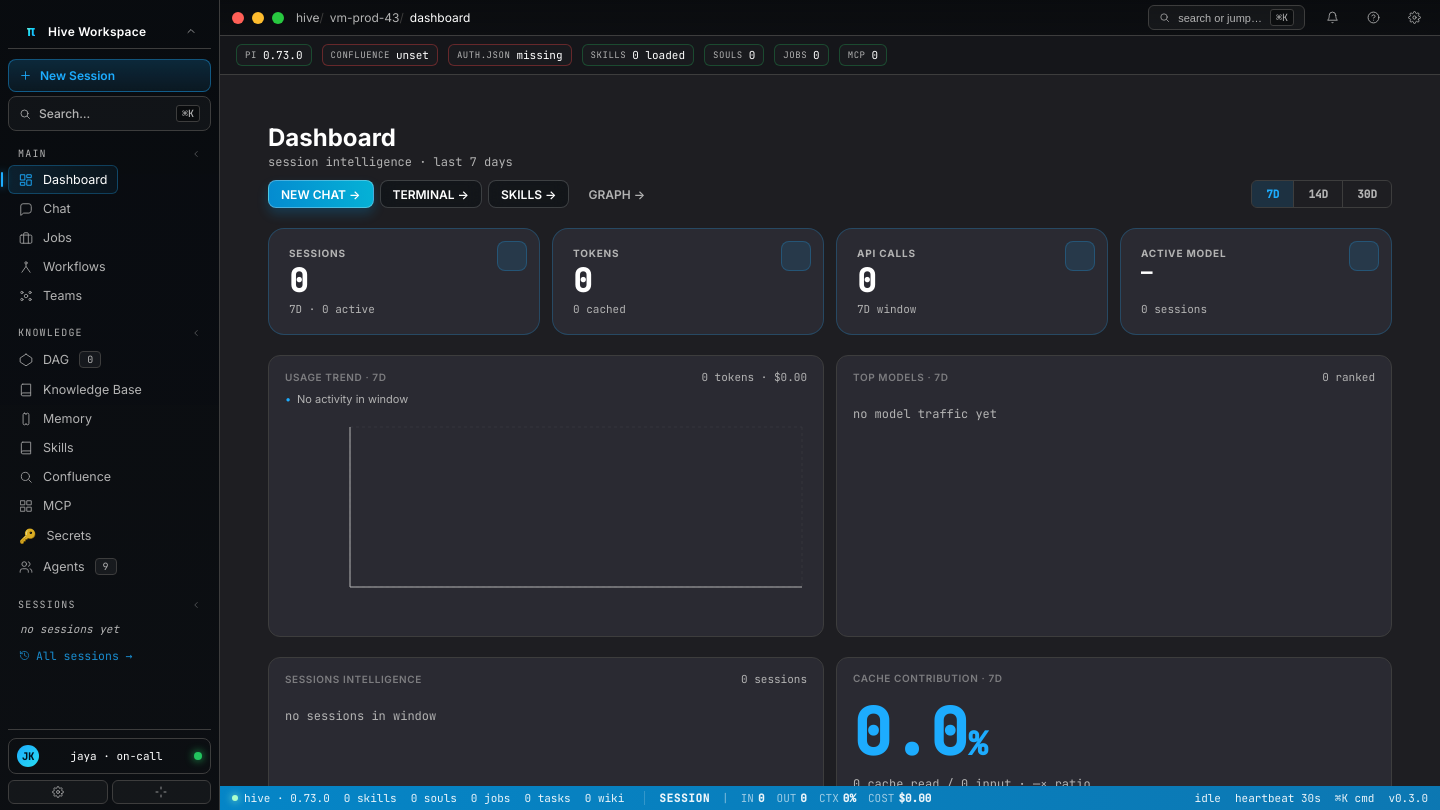
Test: screen selection › persists active screen on click
This screenshot has width=1440, height=810.
Click the button with test id "sb-item-sessions".
click(76, 656)  # box top-left (8, 642), bottom-right (144, 669)
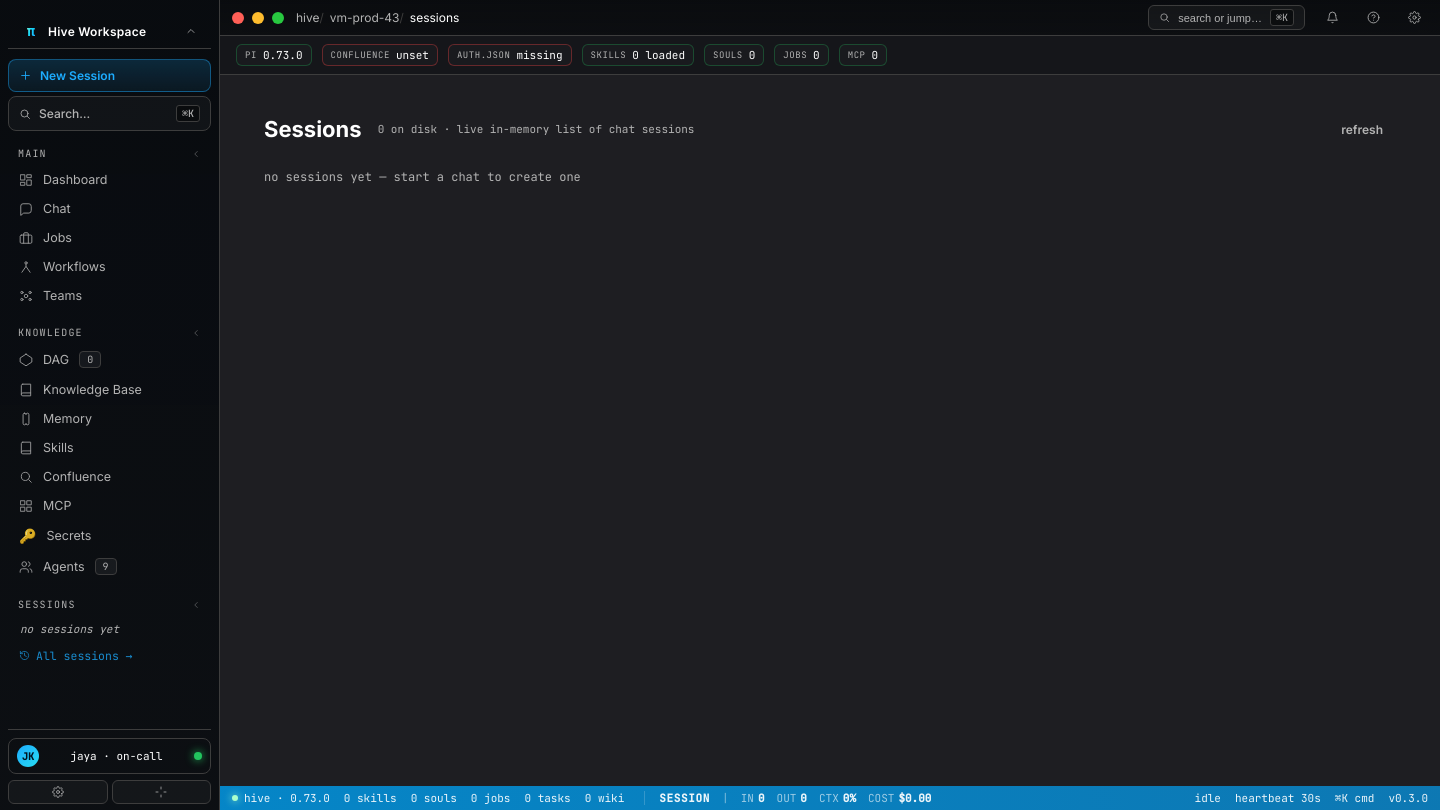
Now the text "sessions" is shown, box top-left (410, 10), bottom-right (459, 25)
Now the element with test id "sessions" is shown, box top-left (264, 115), bottom-right (1396, 185)
